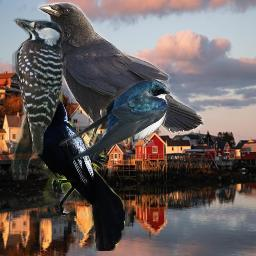Crow: (37, 2, 204, 147), (29, 89, 125, 251)
Swallow: (59, 80, 170, 160)
Woodpecker: (10, 15, 67, 180)
